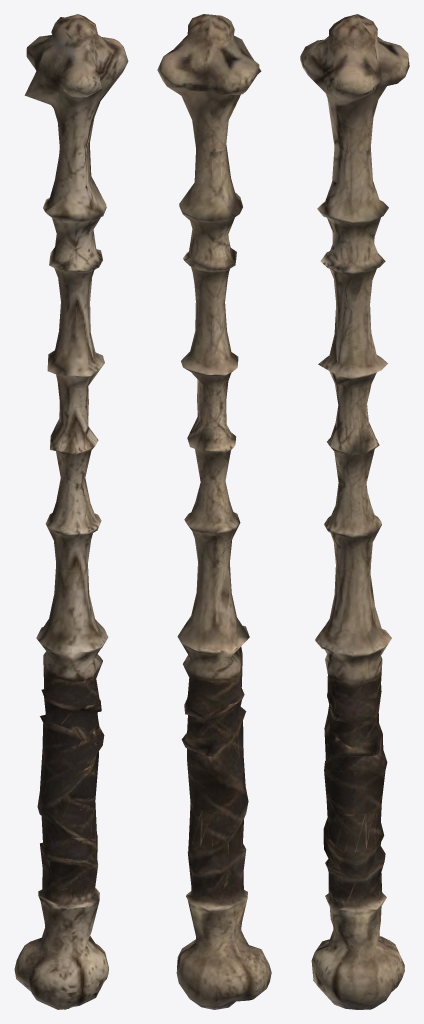
Rendered from w_wand.glb.
The picture shows the model from 3 angles, left to right: view 1: azimuth 30°, elevation 25°; view 2: azimuth 210°, elevation 25°; view 3: azimuth 270°, elevation 25°; orthographic projection.
Visible parts, largest first — view 1: w_wand; view 2: w_wand; view 3: w_wand.
Boxes of the visible parts, bbox=[...] form: w_wand: bbox=[14, 14, 128, 1009]; w_wand: bbox=[157, 14, 271, 1009]; w_wand: bbox=[300, 14, 409, 1009].
Size of the model in its own units: 0.0867 by 0.8235 by 0.0821.
Materials: 1 (1 with a texture image).
